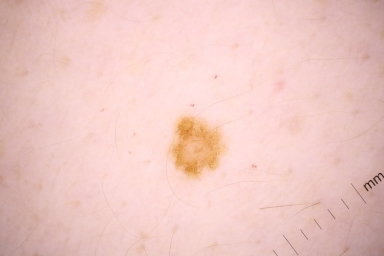melanoma: (172, 115, 221, 174)
